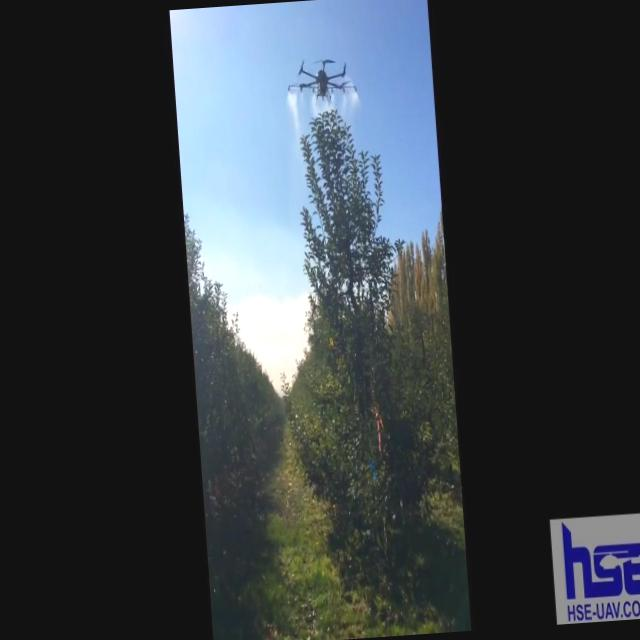drone: (283, 52, 360, 114)
